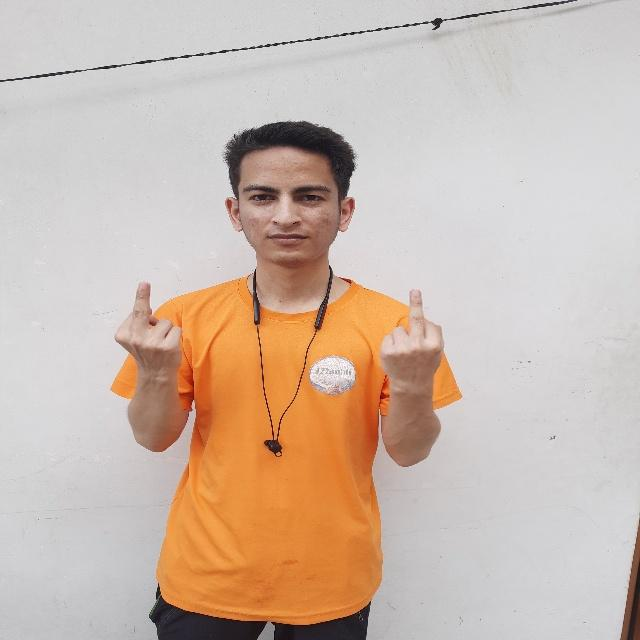Middle Finger: (108, 277, 190, 384), (374, 282, 451, 395)
